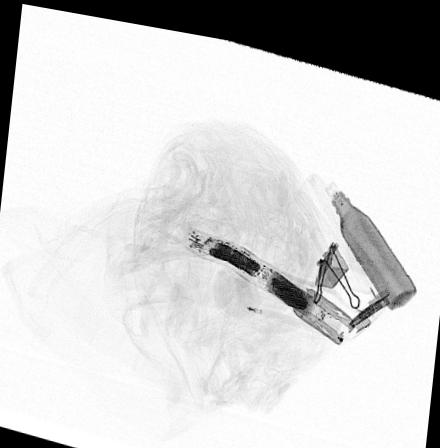Baton: (180, 215, 355, 334)
